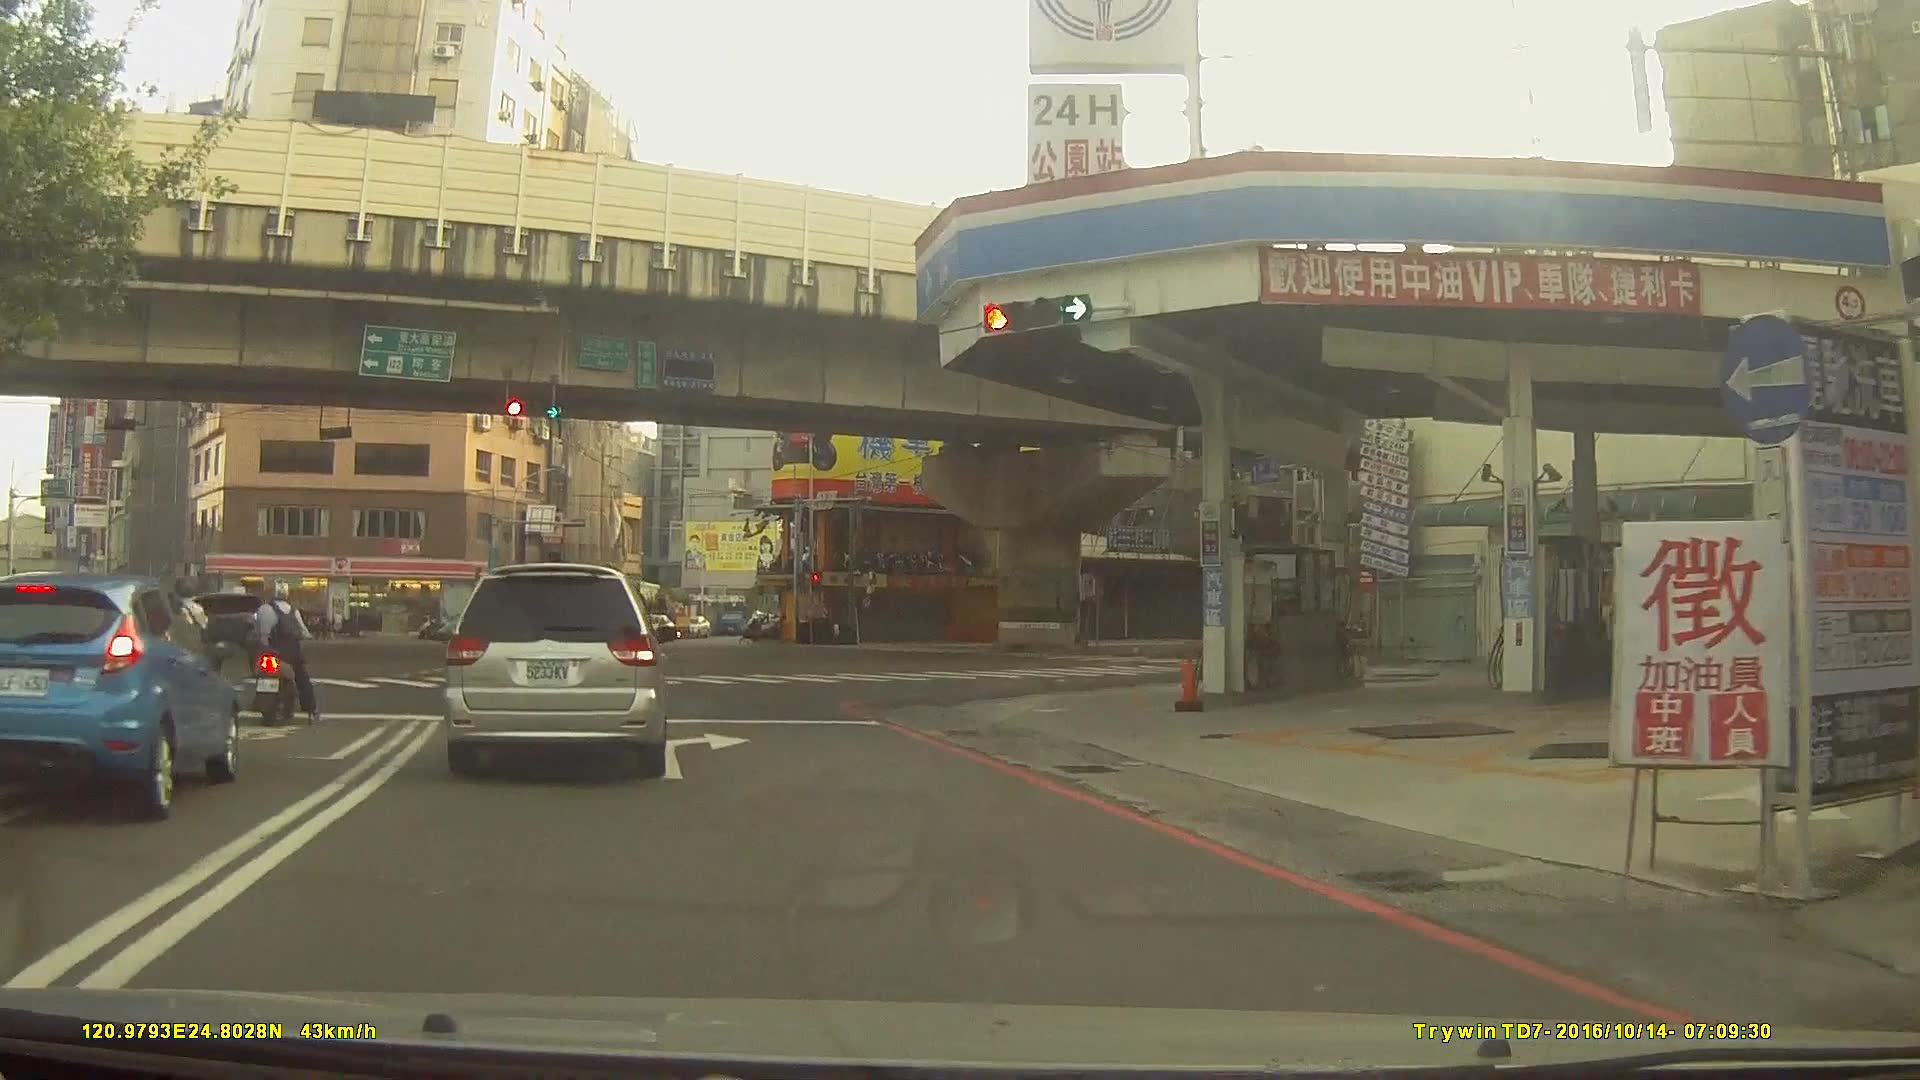rider: (250, 577, 316, 732), (152, 578, 214, 722)
vehicle: (0, 568, 238, 821), (439, 560, 668, 778), (123, 587, 272, 642), (543, 606, 605, 633)
